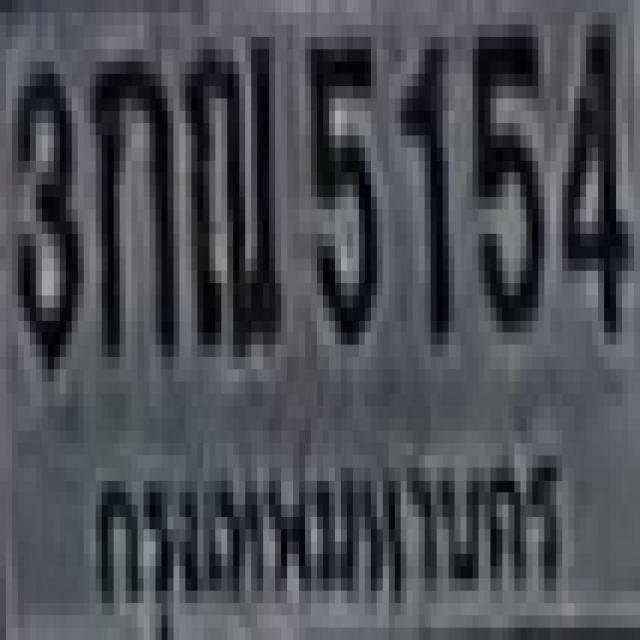-: (180, 24, 275, 344), (90, 43, 173, 351)
1: (394, 25, 442, 332)
3: (12, 55, 78, 363)
4: (556, 6, 622, 326)
5: (466, 12, 538, 320), (305, 25, 371, 332)
BKK: (72, 418, 580, 640)
